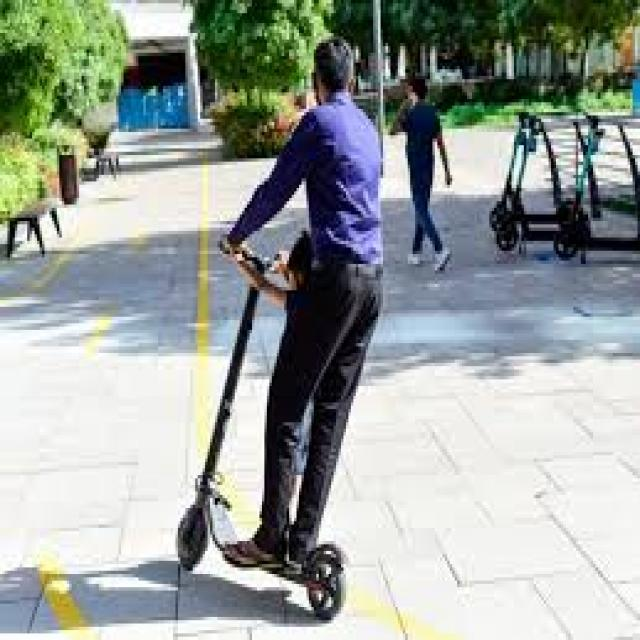non-helmet: (168, 30, 386, 630)
